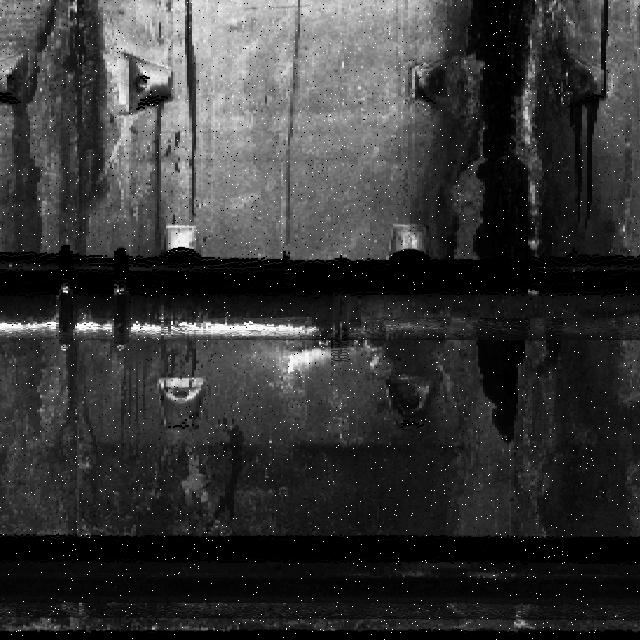leakage: (292, 343, 633, 539), (408, 5, 638, 260), (1, 1, 166, 262), (1, 336, 175, 532), (179, 1, 205, 228), (205, 418, 247, 533)
